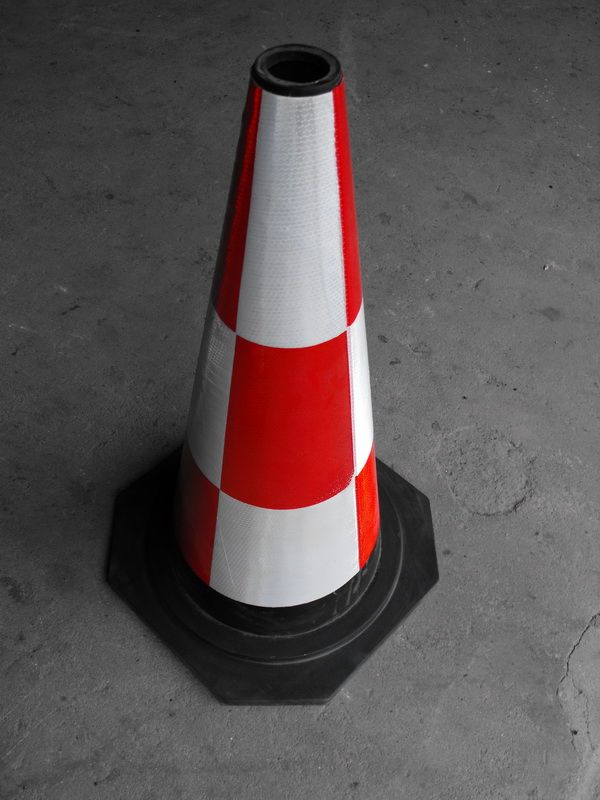traffic_cone: (94, 35, 463, 715)
